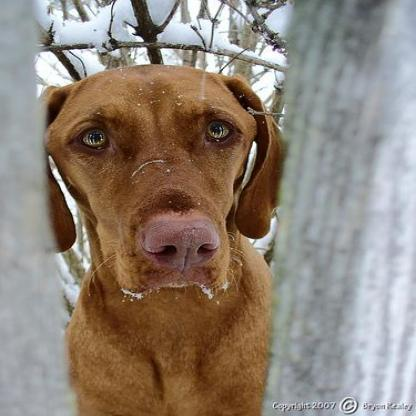vizsla: (35, 64, 282, 414)
